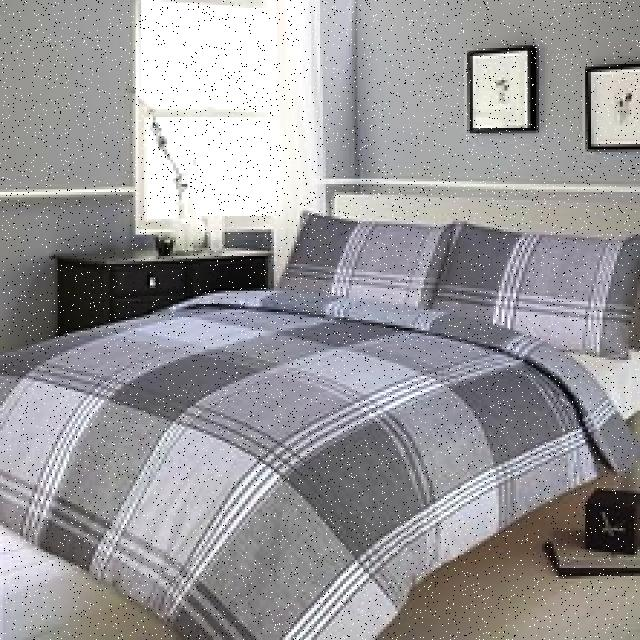bed: (0, 210, 637, 640)
